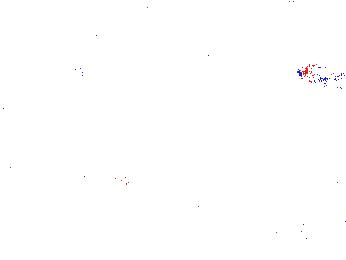X-ray fish: (72, 36, 99, 80)
glassfish: (43, 159, 142, 197)
red belly glassfish: (298, 65, 338, 82), (197, 44, 217, 65)
redtail glassfish: (253, 1, 304, 20)
